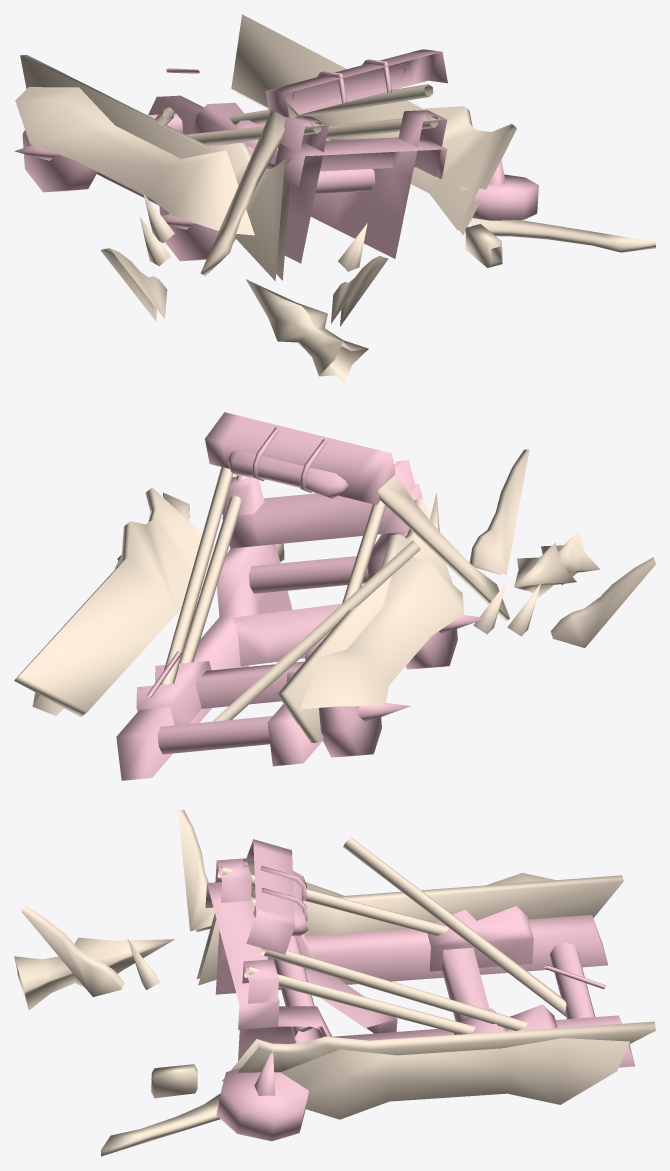
3 renders of one model, top to bottom at view 1: azimuth 30°, elevation 25°; view 2: azimuth 150°, elevation 25°; view 3: azimuth 270°, elevation 25°, orthographic. The views are drawn at different scales.
Parts seen in each view (by area): view 1: Object46; view 2: Object46; view 3: Object46.
Boxes of the visible parts, box(x1,y1,x2,y2) form: Object46: box(14, 14, 655, 383); Object46: box(14, 412, 655, 780); Object46: box(14, 809, 655, 1156).
Bounding box in the file's own units: 724 × 267 × 778.
